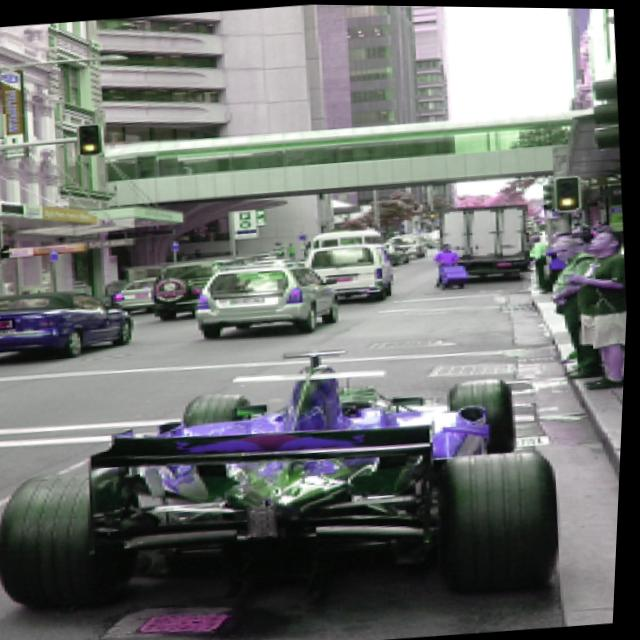license_plate: (0, 316, 19, 335)
